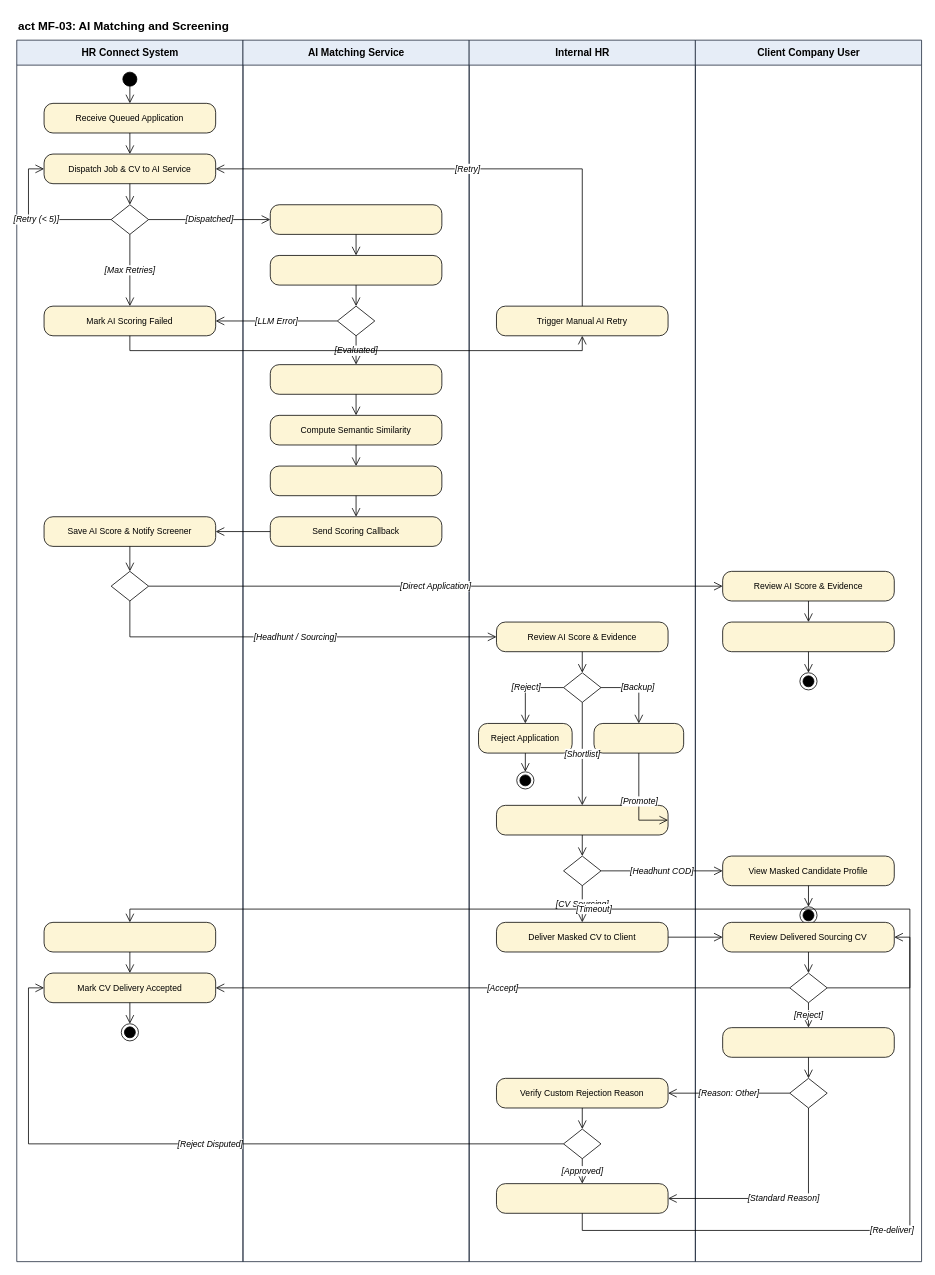
This 935x1275 diagram has some shape labels left out. Each missing label, with the box of its shape:
Auto-Accept Expired Delivery: (43, 922, 216, 952)
Calculate Final Score & Tier: (269, 465, 442, 496)
Deliver Replacement CV: (496, 1183, 668, 1213)
Evaluate Requirements via LLM: (269, 255, 442, 285)
Fetch JD & Extract CV Text: (269, 204, 442, 234)
Keep as Backup: (593, 723, 684, 753)
Reject Delivered CV with Reason: (722, 1027, 894, 1057)
Shortlist Candidate: (496, 805, 668, 835)
Shortlist, Backup or Reject: (722, 621, 894, 652)
Verify Quotes & Experience Years: (269, 364, 442, 394)
